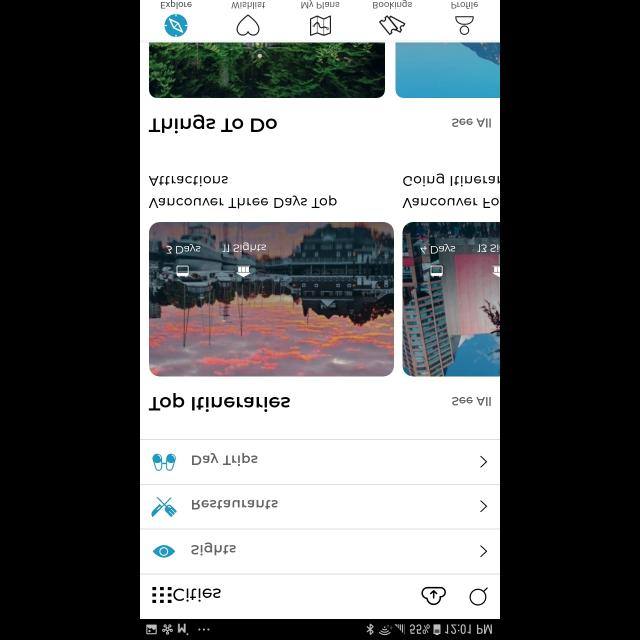icon: (378, 15, 406, 35), (237, 14, 260, 36), (165, 14, 188, 36), (422, 586, 446, 606), (309, 16, 331, 36), (468, 586, 488, 606), (454, 16, 474, 34), (152, 544, 175, 558), (152, 586, 172, 602), (177, 265, 190, 277), (430, 265, 442, 277), (237, 266, 251, 276), (480, 455, 488, 467), (480, 500, 488, 512), (480, 545, 488, 557)
image: (150, 222, 394, 376), (402, 222, 500, 376), (150, 42, 384, 98), (396, 42, 500, 98), (151, 497, 177, 517), (152, 453, 176, 471), (492, 266, 500, 276)
text: (149, 176, 337, 208), (402, 174, 500, 208), (150, 392, 290, 412), (149, 114, 277, 134), (192, 452, 258, 466), (192, 499, 278, 509), (173, 588, 220, 602), (192, 542, 236, 556), (222, 242, 266, 252), (452, 397, 492, 407), (373, 0, 412, 10), (302, 0, 340, 10), (452, 119, 492, 128), (167, 244, 201, 254), (421, 244, 455, 253), (160, 0, 191, 9), (450, 2, 478, 10), (231, 2, 265, 8), (478, 244, 500, 252)
uppertaskbar: (140, 618, 500, 640)
